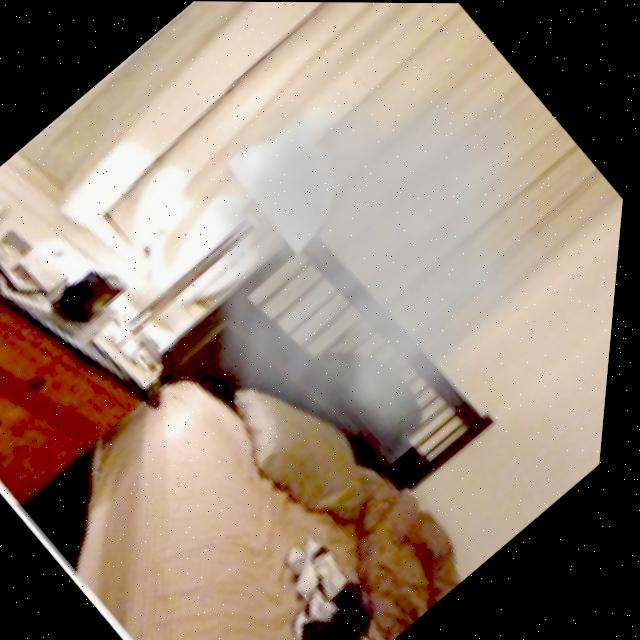Smoke: (71, 2, 626, 523)
